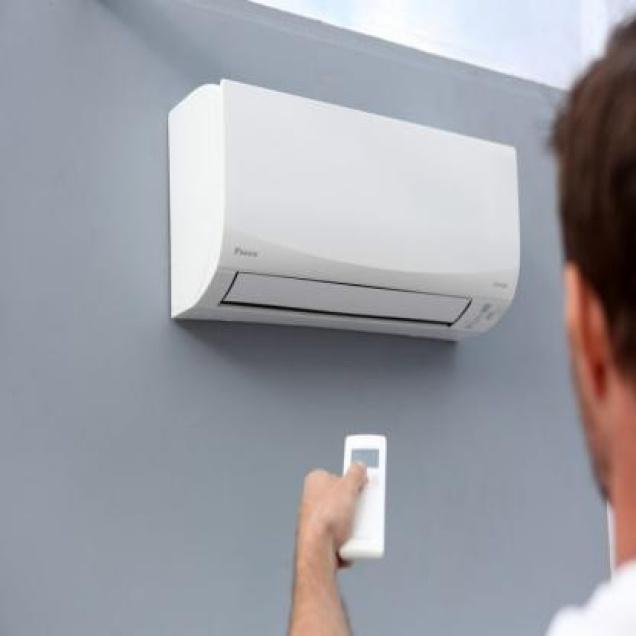AC: (166, 78, 520, 341)
